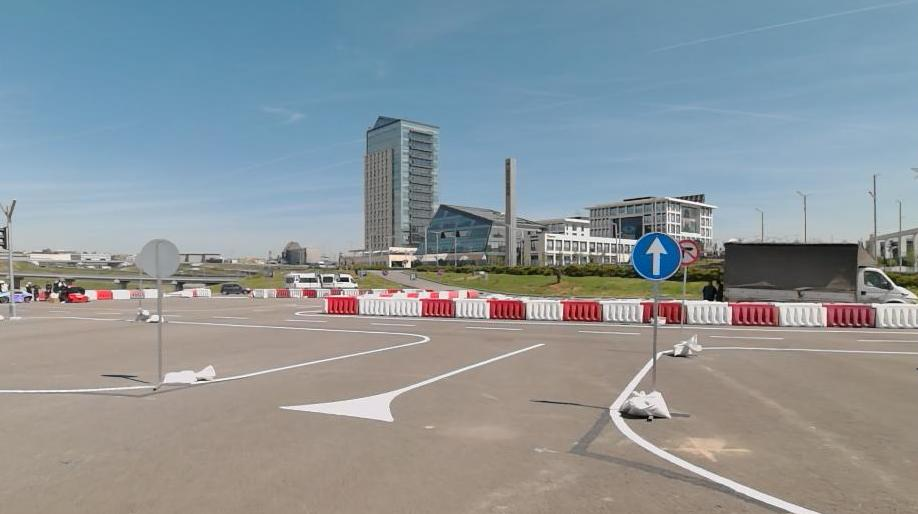nesne: (0, 309, 917, 513), (281, 328, 917, 512), (0, 314, 546, 513), (608, 345, 819, 512), (325, 292, 917, 329), (281, 340, 544, 421), (290, 304, 915, 333), (170, 318, 428, 382), (721, 238, 917, 300), (702, 343, 917, 354), (631, 234, 682, 279), (0, 382, 156, 393), (620, 392, 670, 418), (825, 302, 874, 327), (163, 364, 216, 387), (357, 296, 420, 315), (874, 304, 918, 329), (643, 298, 686, 323), (689, 298, 733, 322), (732, 303, 779, 325), (780, 303, 824, 326), (599, 300, 645, 322), (671, 331, 704, 360), (248, 286, 325, 298), (561, 297, 599, 320), (525, 298, 561, 320), (452, 299, 488, 320), (488, 299, 524, 318), (421, 299, 455, 318), (322, 272, 359, 288), (326, 294, 357, 313), (701, 272, 721, 300), (678, 238, 697, 267), (286, 272, 320, 288), (68, 282, 92, 303), (218, 280, 248, 296), (134, 307, 165, 321), (0, 289, 32, 302), (581, 329, 640, 335), (370, 321, 413, 328), (710, 333, 781, 337), (464, 325, 520, 330), (250, 287, 274, 298), (58, 279, 69, 302), (32, 280, 43, 300), (109, 289, 129, 299), (272, 287, 290, 297), (282, 318, 324, 322), (44, 279, 51, 300), (128, 288, 144, 297), (289, 288, 305, 297), (144, 288, 158, 298), (51, 277, 60, 292), (83, 289, 97, 298), (97, 289, 112, 297), (302, 289, 318, 296), (195, 288, 210, 295), (25, 280, 34, 291), (181, 288, 193, 295)
